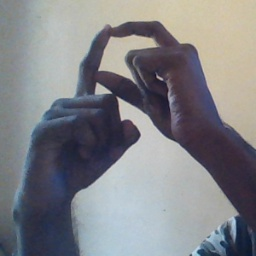D: (64, 17, 193, 136)
